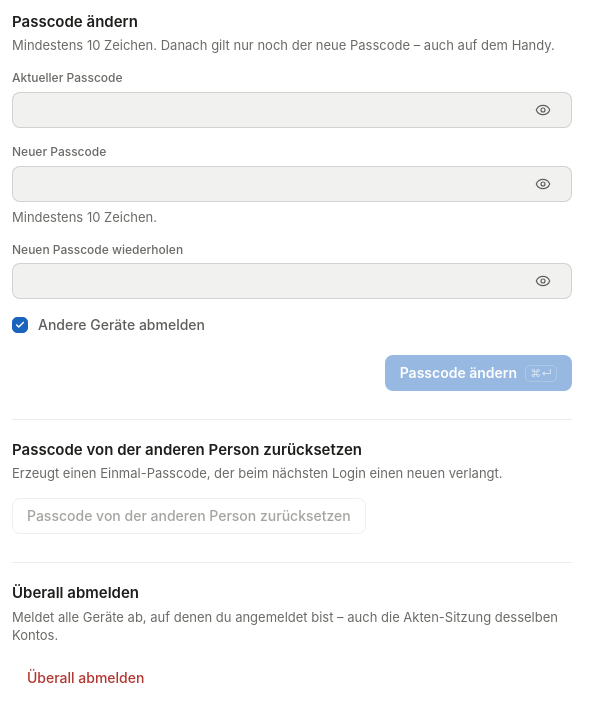
Test: Passcode › unter 10 Zeichen → Fehler am neuen Feld, kein Request
Type "alterpasscode" into the password field labelled "Aktueller Passcode".
click(272, 110); type("alterpasscode")  # box [25,93,519,127]
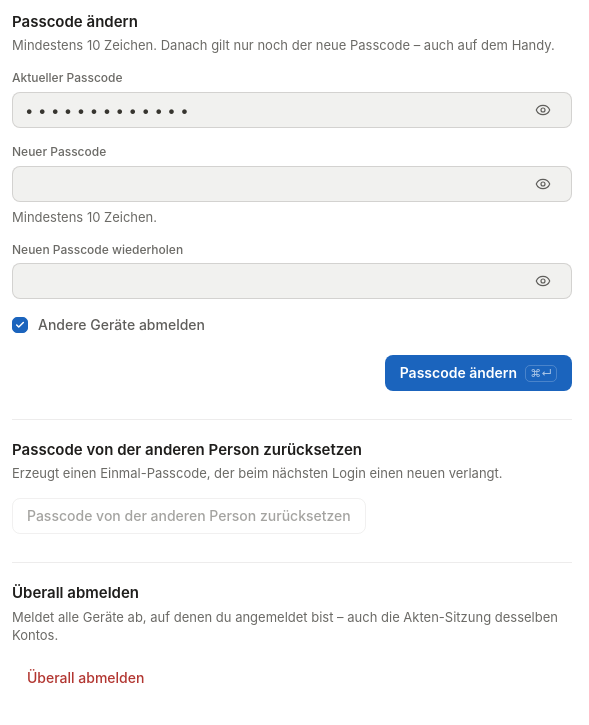
Type "kurz" into the password field labelled "Neuer Passcode".
click(272, 184); type("kurz")  # box [25,167,519,201]
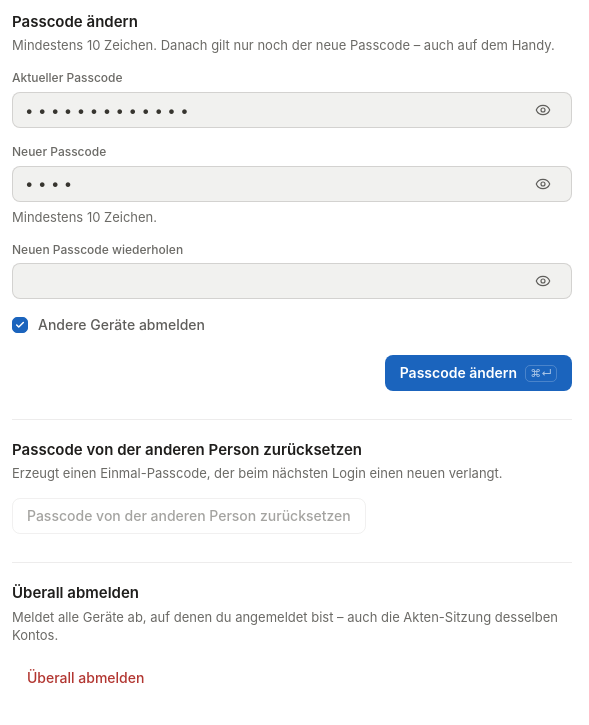
Type "kurz" into the password field labelled "Neuen Passcode wiederholen".
click(272, 281); type("kurz")  # box [25,264,519,298]
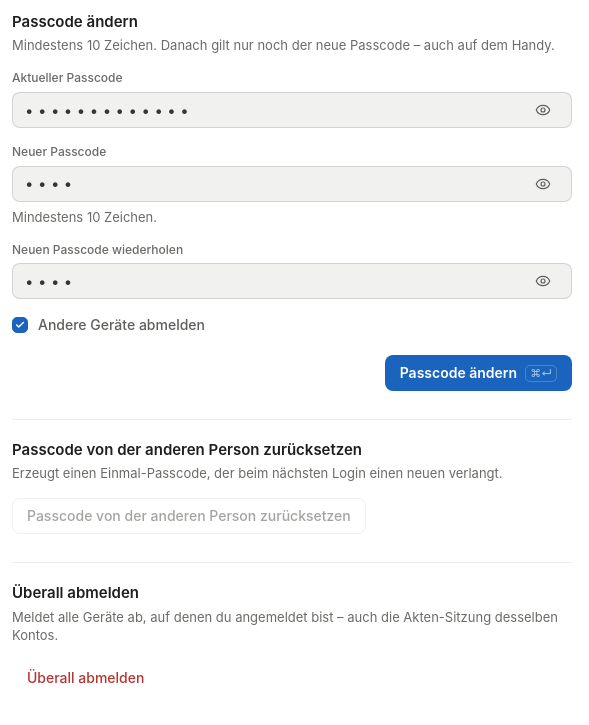
Click the button "Passcode ändern ⌘↵".
click(478, 373)  # box [385,355,572,391]
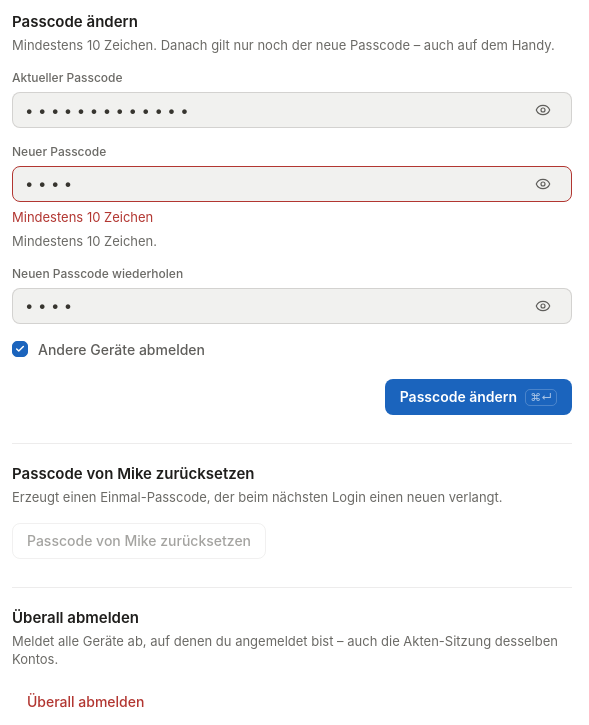
Result: the message reads "Mindestens 10 Zeichen" at [12,209,153,225]
